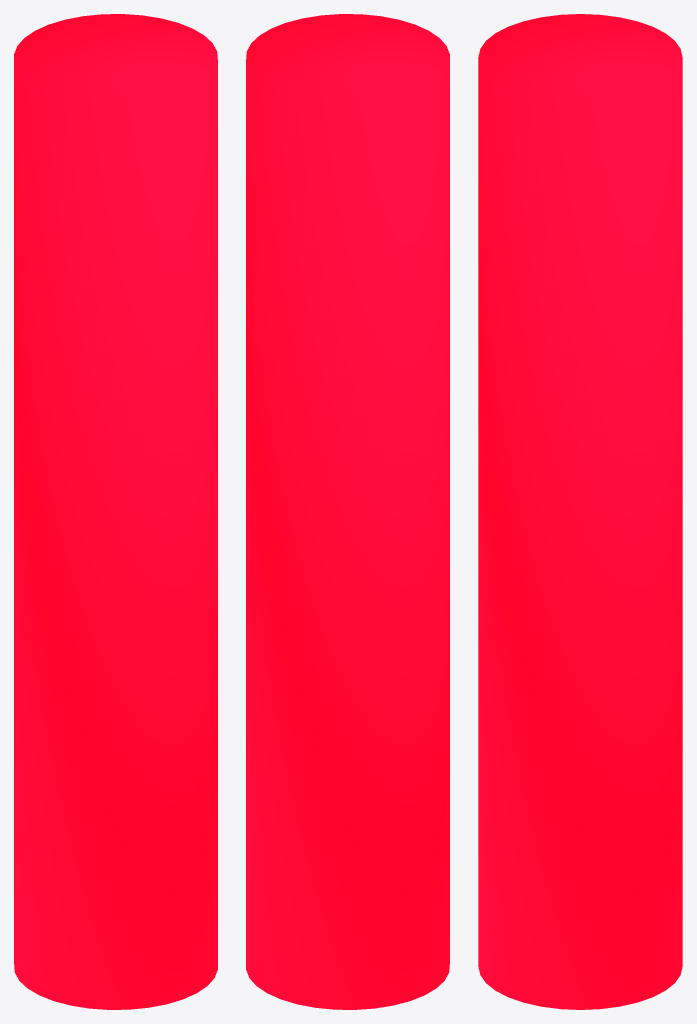
Rendered from LaserShooterBullet 1.fbx.
3 views of the same model, side by side, from view 1: azimuth 30°, elevation 25°; view 2: azimuth 150°, elevation 25°; view 3: azimuth 270°, elevation 25° (orthographic).
Parts seen in each view (by area): view 1: Cylinder; view 2: Cylinder; view 3: Cylinder.
Boxes of the visible parts, <box> form: Cylinder: <box>14,14,217,1009</box>; Cylinder: <box>246,14,449,1009</box>; Cylinder: <box>478,14,682,1009</box>.
Bounding box in the file's own units: 200 × 983 × 200.
